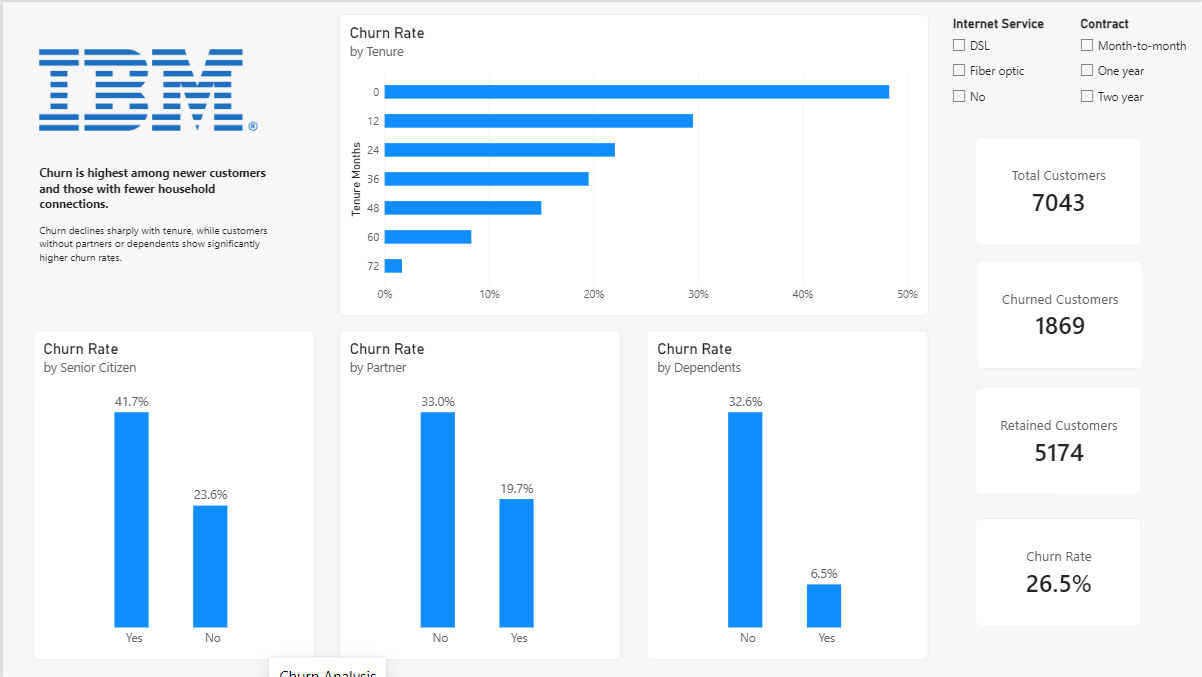

Layout of this report page (visuals, bound fields, positions):
{"tool":"powerbi","page":{"name":"Churn Analysis","canvas":[1920,1080],"ordinal":1},"visuals":[{"type":"cardVisual","fields":{"Data":["telco_churn_raw.Total Customers"]},"box":[1555.3,216.7,265.9,173.6],"z":0},{"type":"cardVisual","fields":{"Data":["telco_churn_raw.Churned Customers"]},"box":[1557.5,414.4,265.9,173.6],"z":1000},{"type":"cardVisual","fields":{"Data":["telco_churn_raw.Retained Customers"]},"box":[1555.3,616.6,265.9,173.6],"z":2000},{"type":"cardVisual","fields":{"Data":["telco_churn_raw.Churn Rate %"]},"box":[1555.3,825.3,265.9,173.6],"z":3000},{"type":"slicer","fields":{"Values":["telco_churn_raw.Contract"]},"box":[1716.1,22,204.3,147.2],"z":4000},{"type":"slicer","fields":{"Values":["telco_churn_raw.Internet Service"]},"box":[1511.7,22,204.3,147.2],"z":5000},{"type":"clusteredBarChart","title":"Churn Rate","fields":{"Category":["telco_churn_raw.Tenure Months (bins)"],"Y":["telco_churn_raw.Churn Rate"]},"box":[537.5,19.9,942.8,481.4],"z":6000},{"type":"columnChart","fields":{"Category":["telco_churn_raw.Senior Citizen"],"Y":["telco_churn_raw.Churn Rate"]},"box":[48,526,450,526],"z":7000},{"type":"columnChart","fields":{"Category":["telco_churn_raw.Dependents"],"Y":["telco_churn_raw.Churn Rate"]},"box":[1030,526,450,526],"z":8000},{"type":"columnChart","fields":{"Category":["telco_churn_raw.Partner"],"Y":["telco_churn_raw.Churn Rate"]},"box":[538,526,450,526],"z":9000},{"type":"image","box":[19.9,21.7,349.3,150.2],"z":9001}]}

Visuals, with their boxes in screenshot pixels (x1, y1, x2, y2), scaled from the page's 1920x1080 canvas onto the 1202x677 screenshot:
cardVisual - telco_churn_raw.Total Customers: {"left": 974, "top": 136, "right": 1140, "bottom": 245}
cardVisual - telco_churn_raw.Churned Customers: {"left": 975, "top": 260, "right": 1142, "bottom": 369}
cardVisual - telco_churn_raw.Retained Customers: {"left": 974, "top": 387, "right": 1140, "bottom": 495}
cardVisual - telco_churn_raw.Churn Rate %: {"left": 974, "top": 517, "right": 1140, "bottom": 626}
slicer - telco_churn_raw.Contract: {"left": 1074, "top": 14, "right": 1201, "bottom": 106}
slicer - telco_churn_raw.Internet Service: {"left": 946, "top": 14, "right": 1074, "bottom": 106}
"Churn Rate" clusteredBarChart: {"left": 336, "top": 12, "right": 927, "bottom": 314}
columnChart - telco_churn_raw.Senior Citizen x telco_churn_raw.Churn Rate: {"left": 30, "top": 330, "right": 312, "bottom": 659}
columnChart - telco_churn_raw.Dependents x telco_churn_raw.Churn Rate: {"left": 645, "top": 330, "right": 927, "bottom": 659}
columnChart - telco_churn_raw.Partner x telco_churn_raw.Churn Rate: {"left": 337, "top": 330, "right": 619, "bottom": 659}
image: {"left": 12, "top": 14, "right": 231, "bottom": 108}
